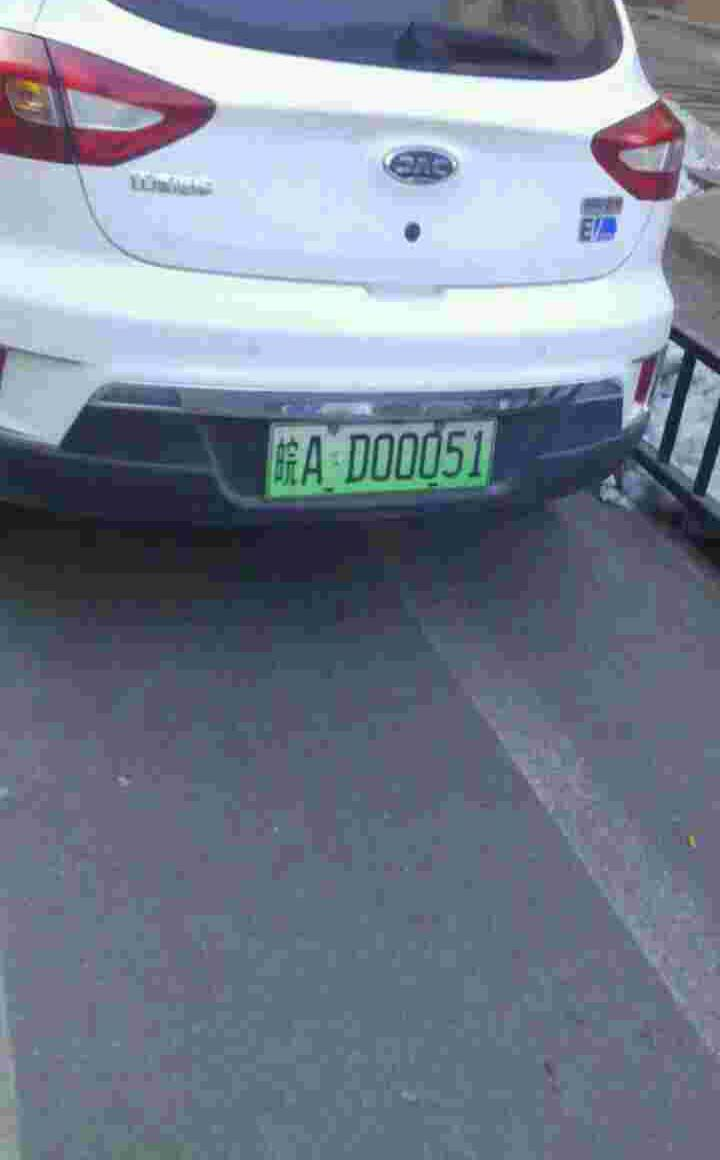car_green: (262, 422, 503, 497)
